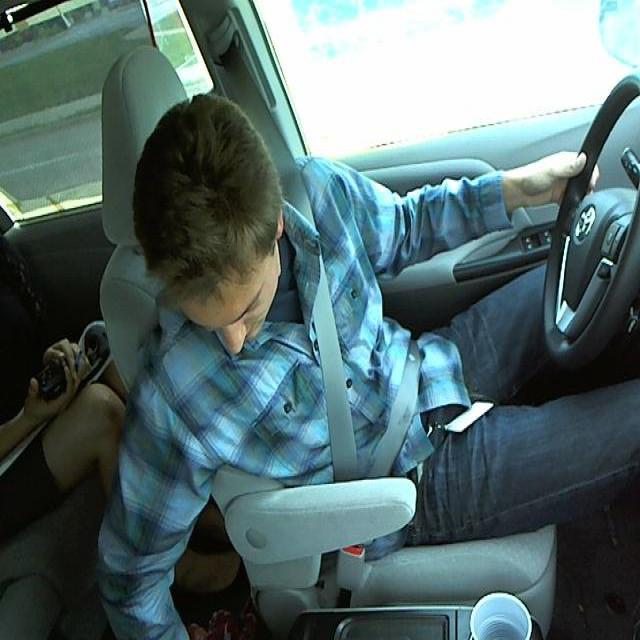seatbelt: (289, 217, 432, 475)
